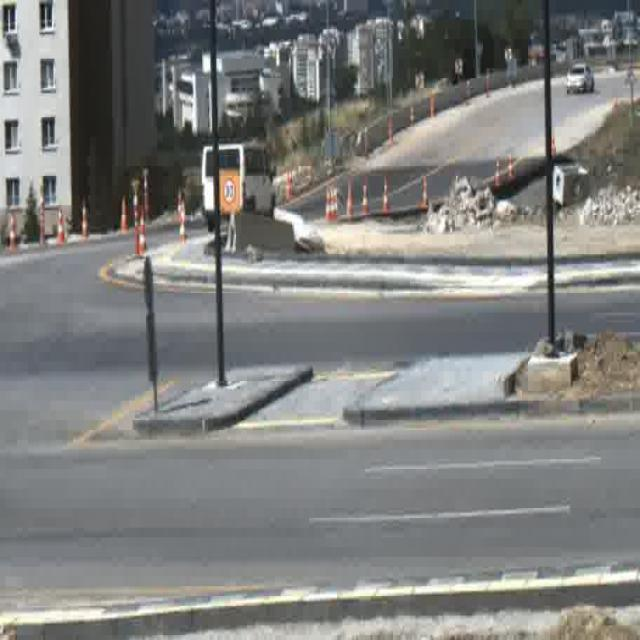Car: (200, 140, 276, 233), (566, 62, 595, 98)
